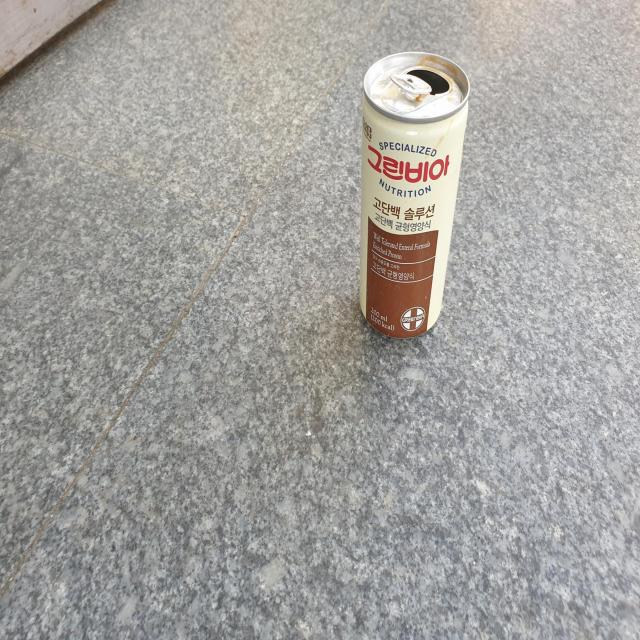can: (360, 51, 470, 338)
